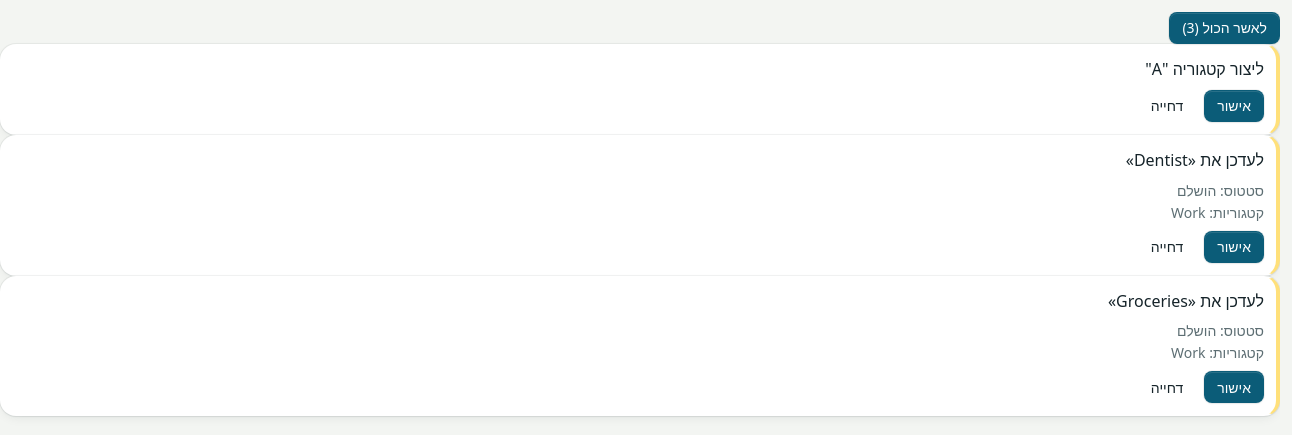
ActionGroup note cards › approve-all sends one applyActions and one updateNote per note card
Step 1. Click the button "לאשר הכול (3)" → (1225, 28), box [1169, 12, 1280, 44]
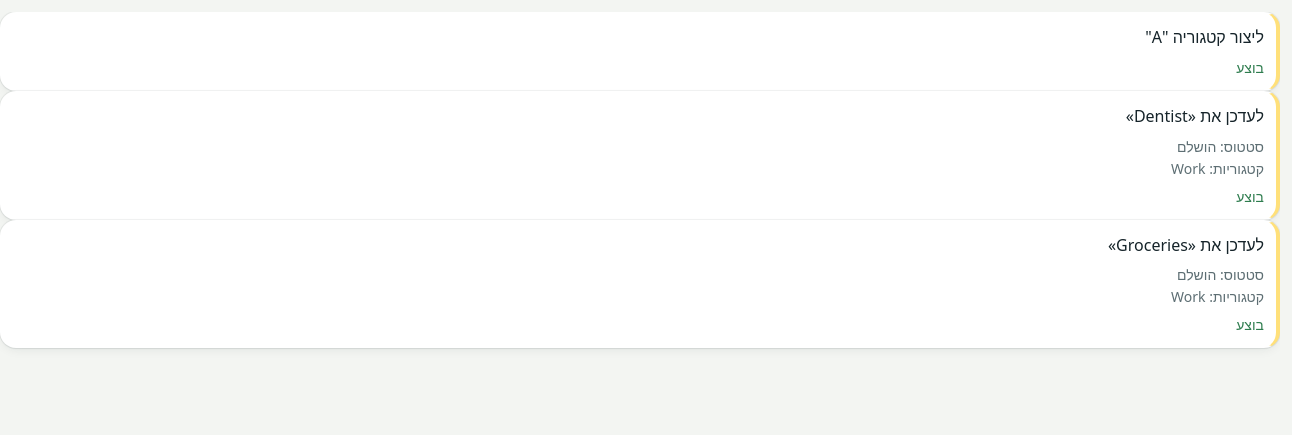
Now the text "בוצע" is shown 3 times, box [1236, 58, 1264, 77]; [1236, 187, 1264, 206]; [1236, 315, 1264, 334]
